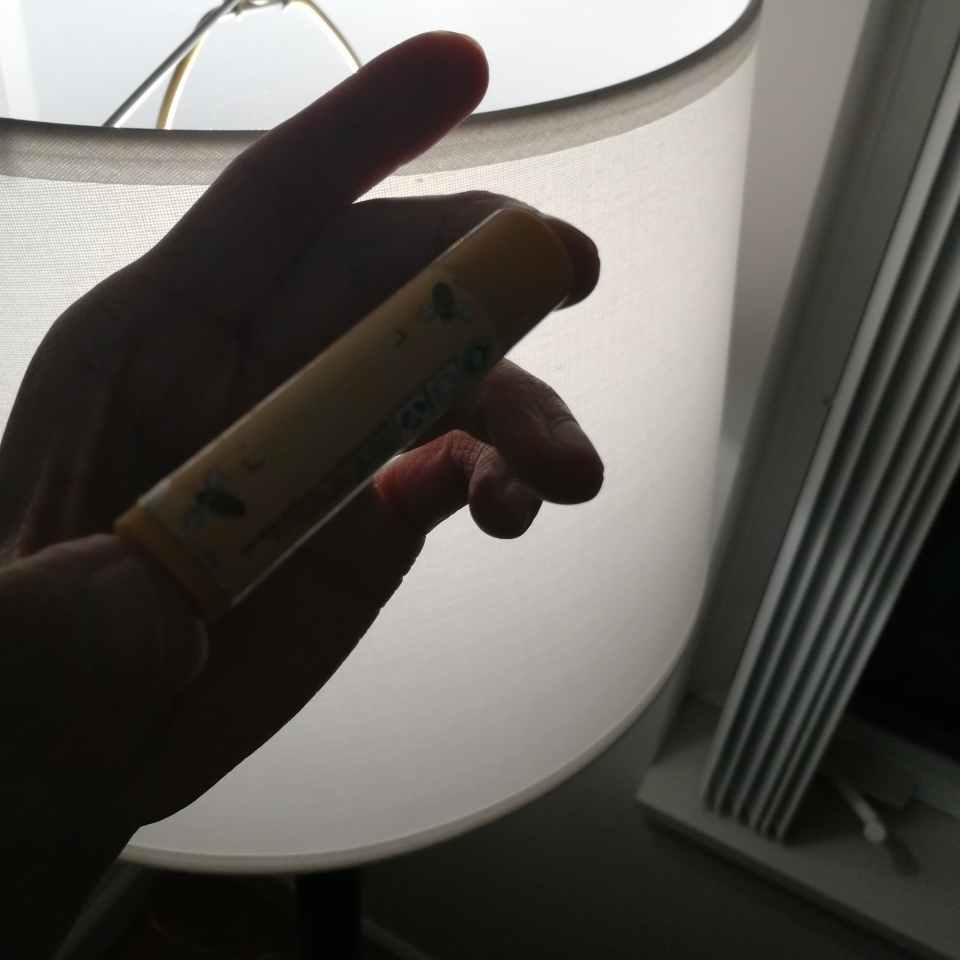chapstick: (115, 205, 575, 627)
